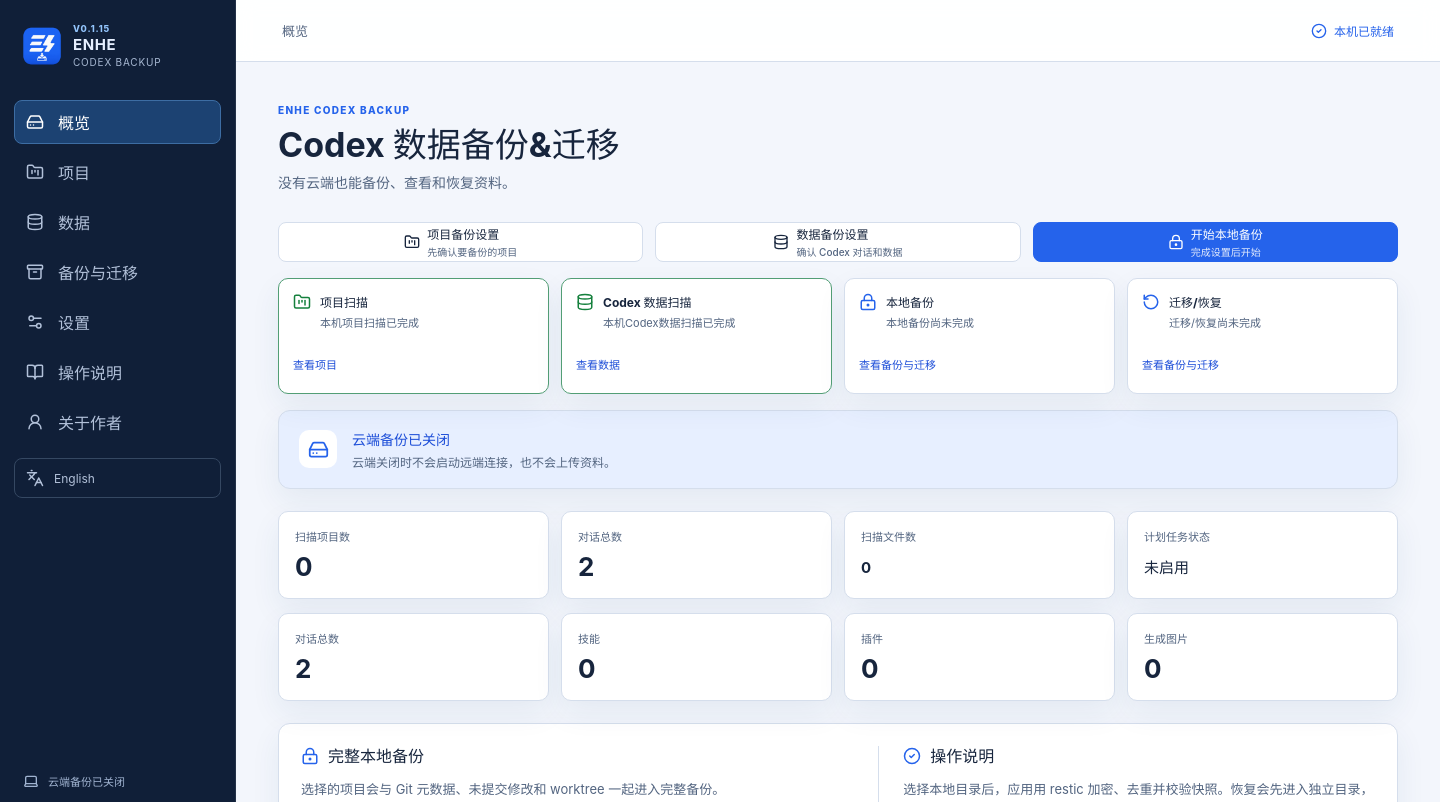
Test: ENHE Codex Backup shell › serializes file counts when a second project is added during a pending count
Click the button with aria-label "前往项目" at (118, 172), box left=14, top=150, right=221, bottom=194
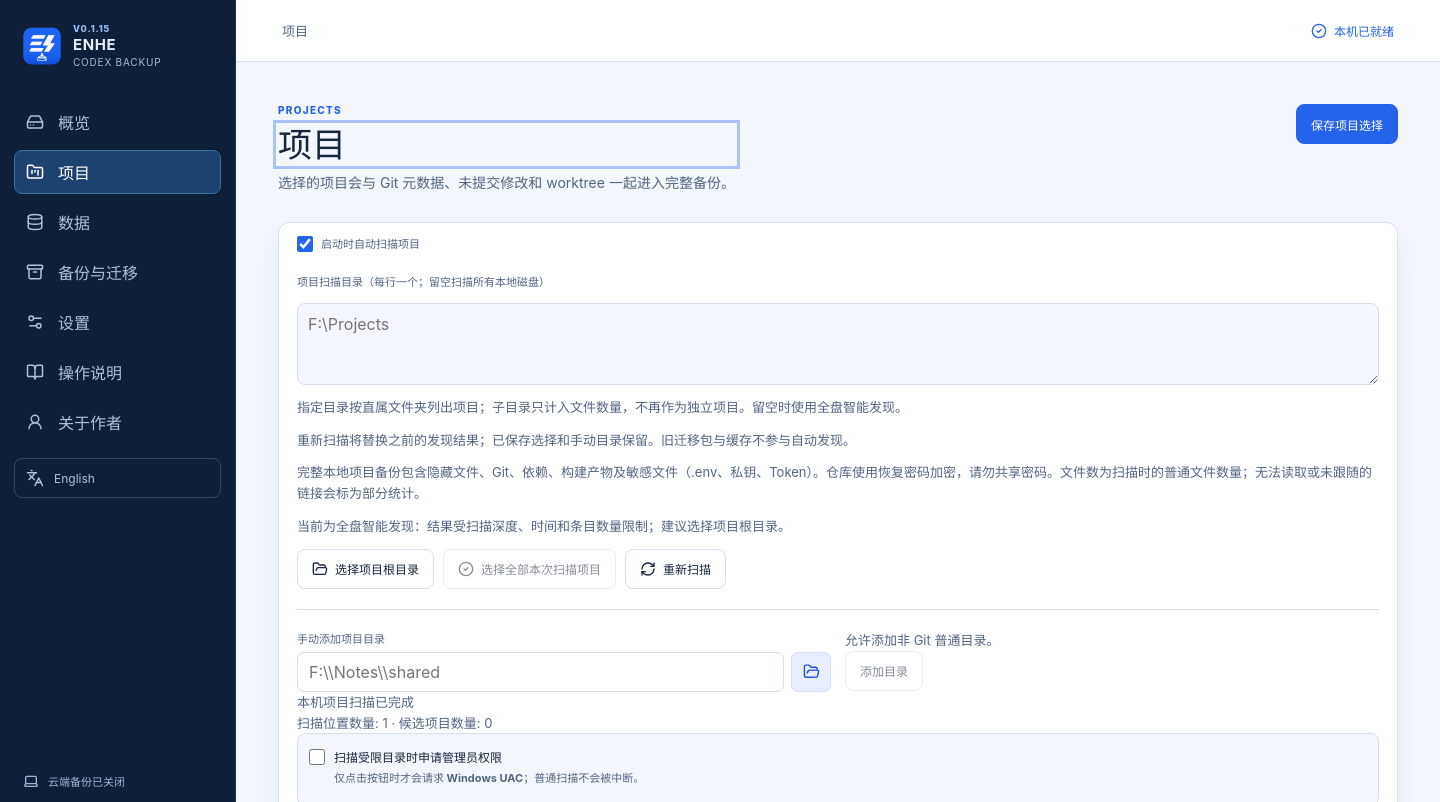
Type "C:\\Work\\second" into the field labelled "手动添加项目目录" at (540, 672), box left=297, top=652, right=784, bottom=692
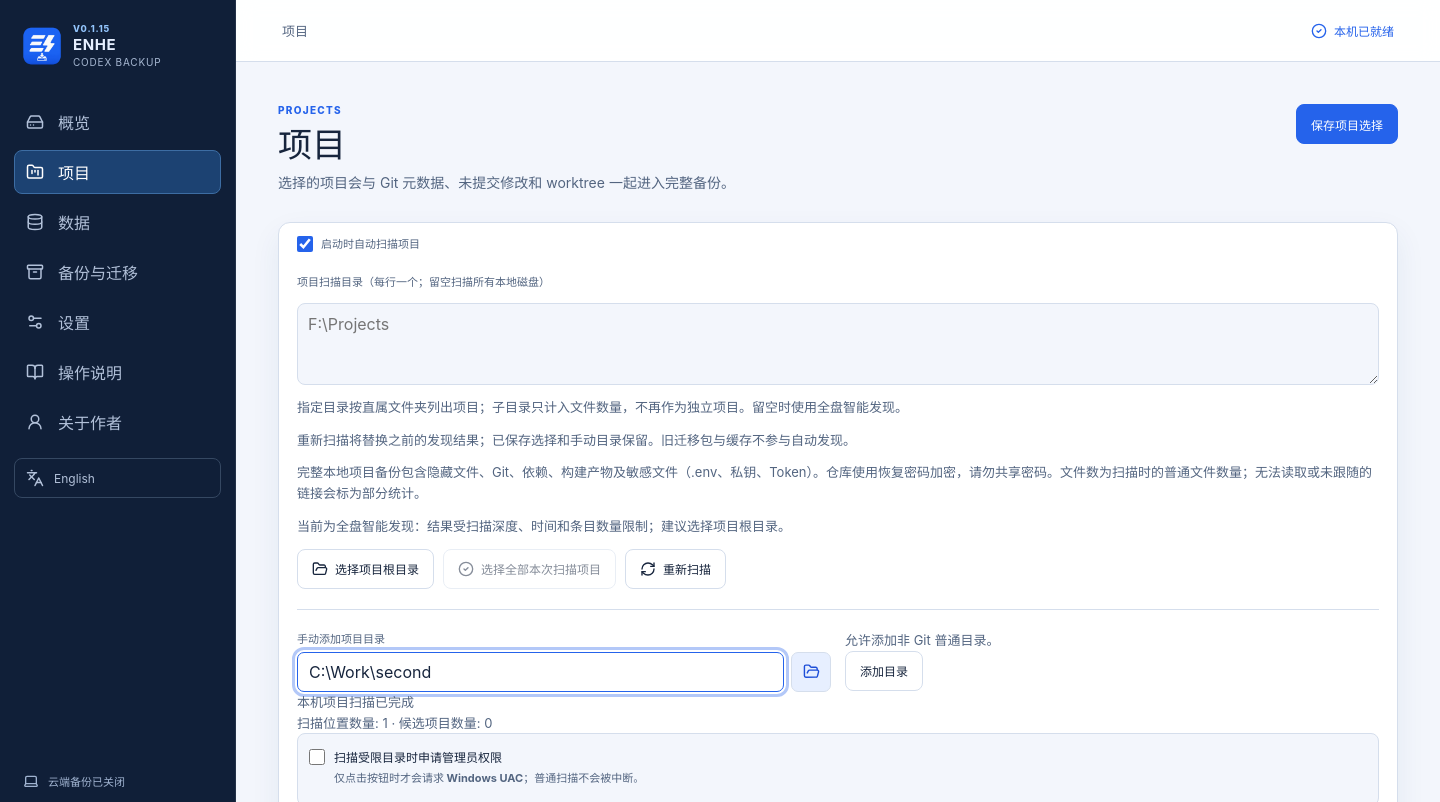
Click the button "添加目录" at (884, 671), box left=845, top=651, right=923, bottom=691
(page scrolled)
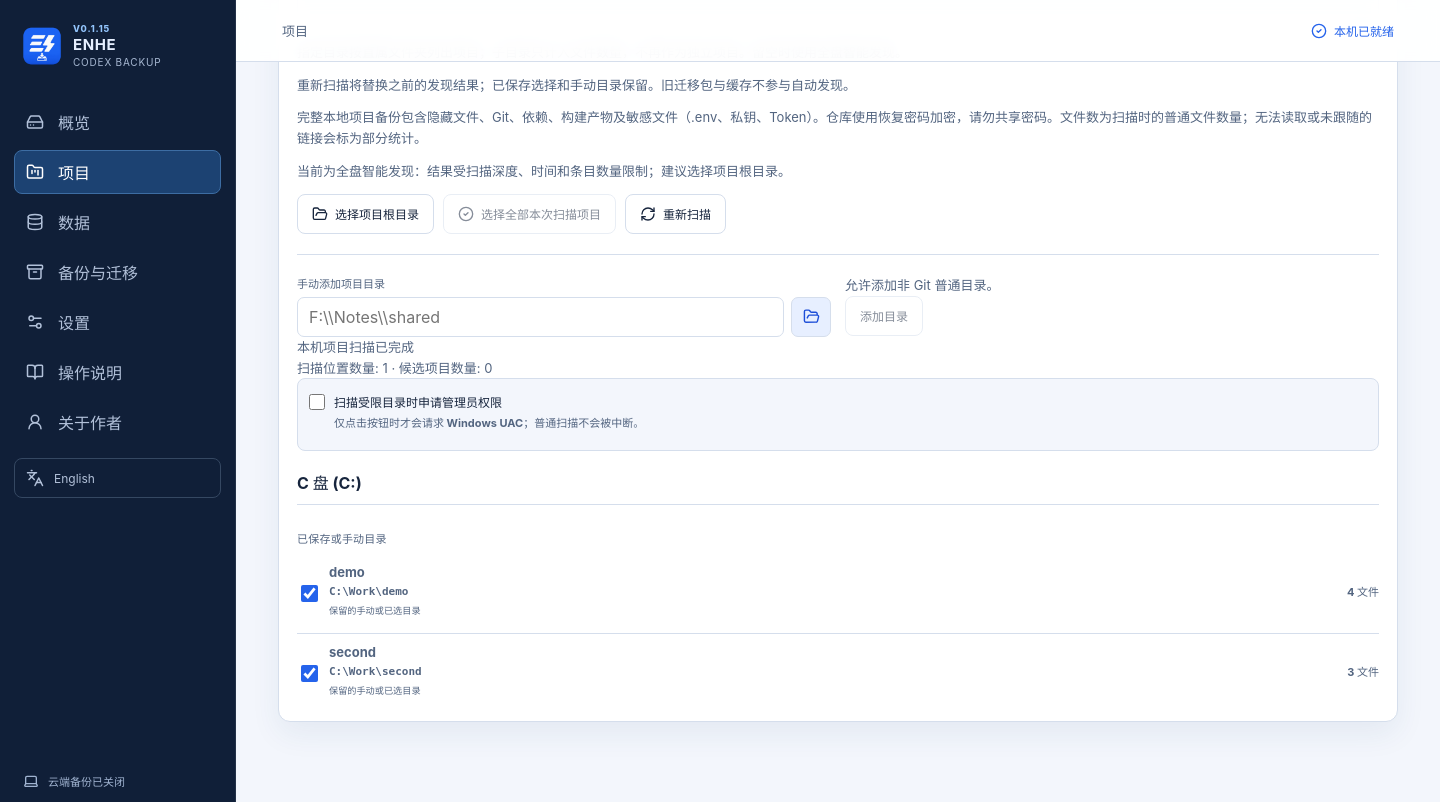
Check: the text "4 文件" is shown, box left=1347, top=583, right=1379, bottom=599
Check: the text "3 文件" is shown, box left=1347, top=663, right=1379, bottom=679
